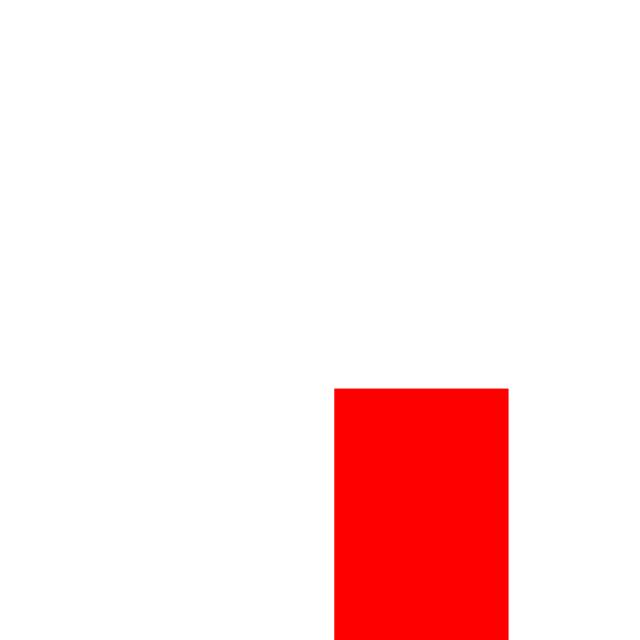Rectangle: (290, 373, 537, 640)
